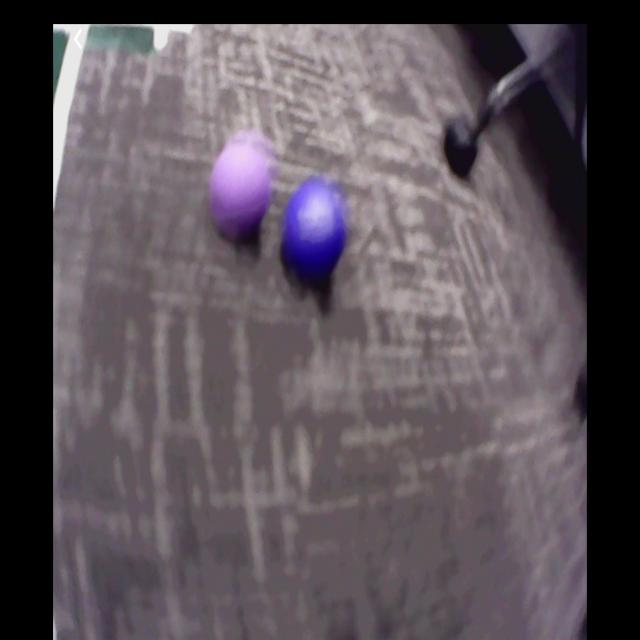ball: (285, 178, 348, 279), (212, 149, 272, 244)
